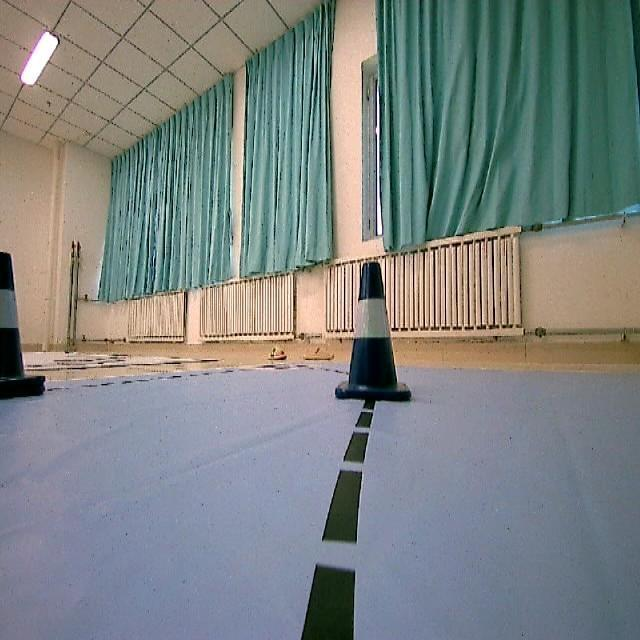obstacle: (334, 266, 416, 407), (0, 244, 56, 408)
